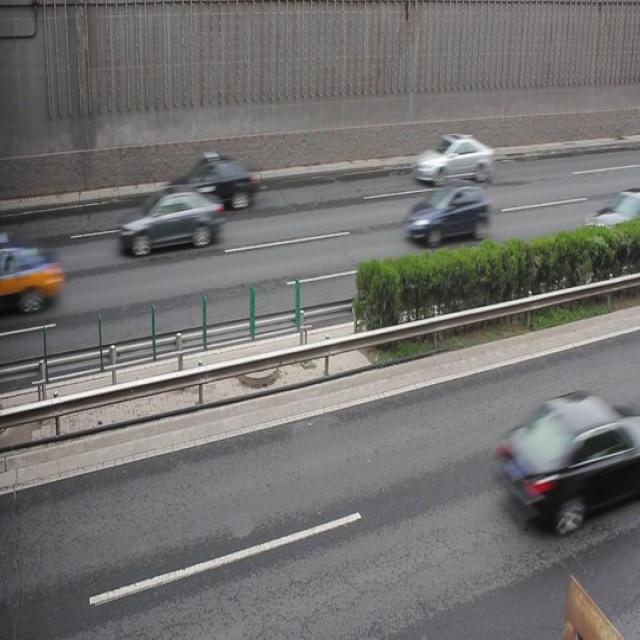car: (493, 388, 631, 534), (117, 184, 223, 257), (403, 178, 489, 244), (166, 154, 258, 212), (410, 131, 493, 184), (1, 244, 63, 308)
